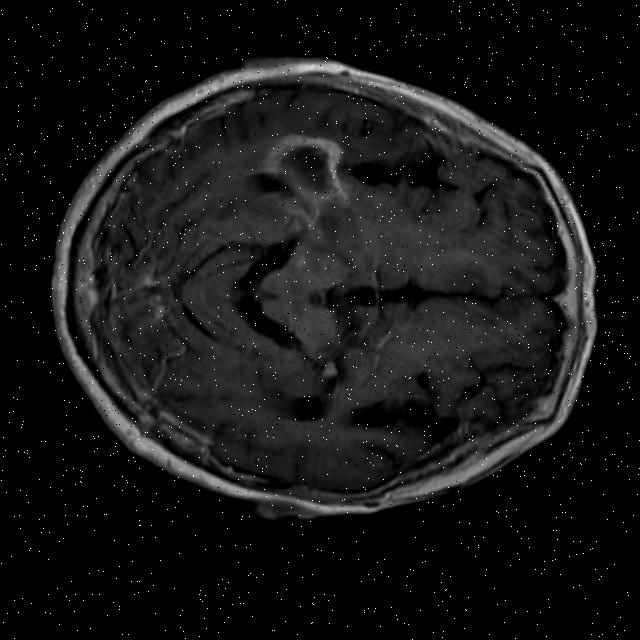Glioma: (253, 124, 354, 210)
